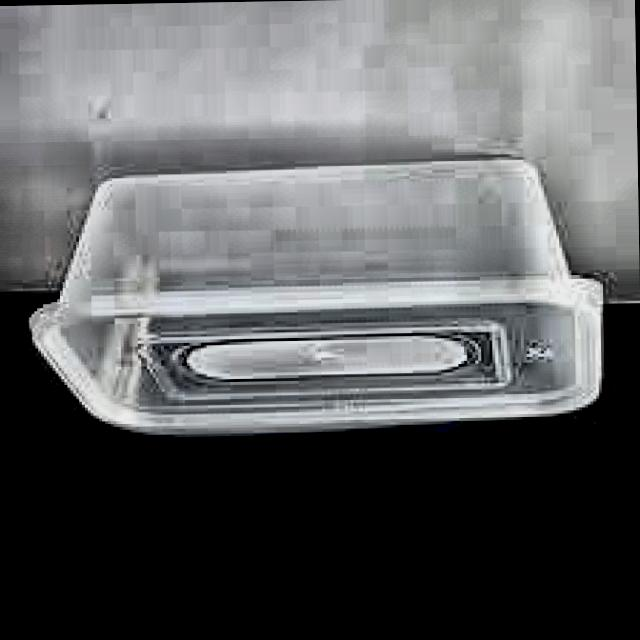plastic container: (31, 159, 602, 433)
